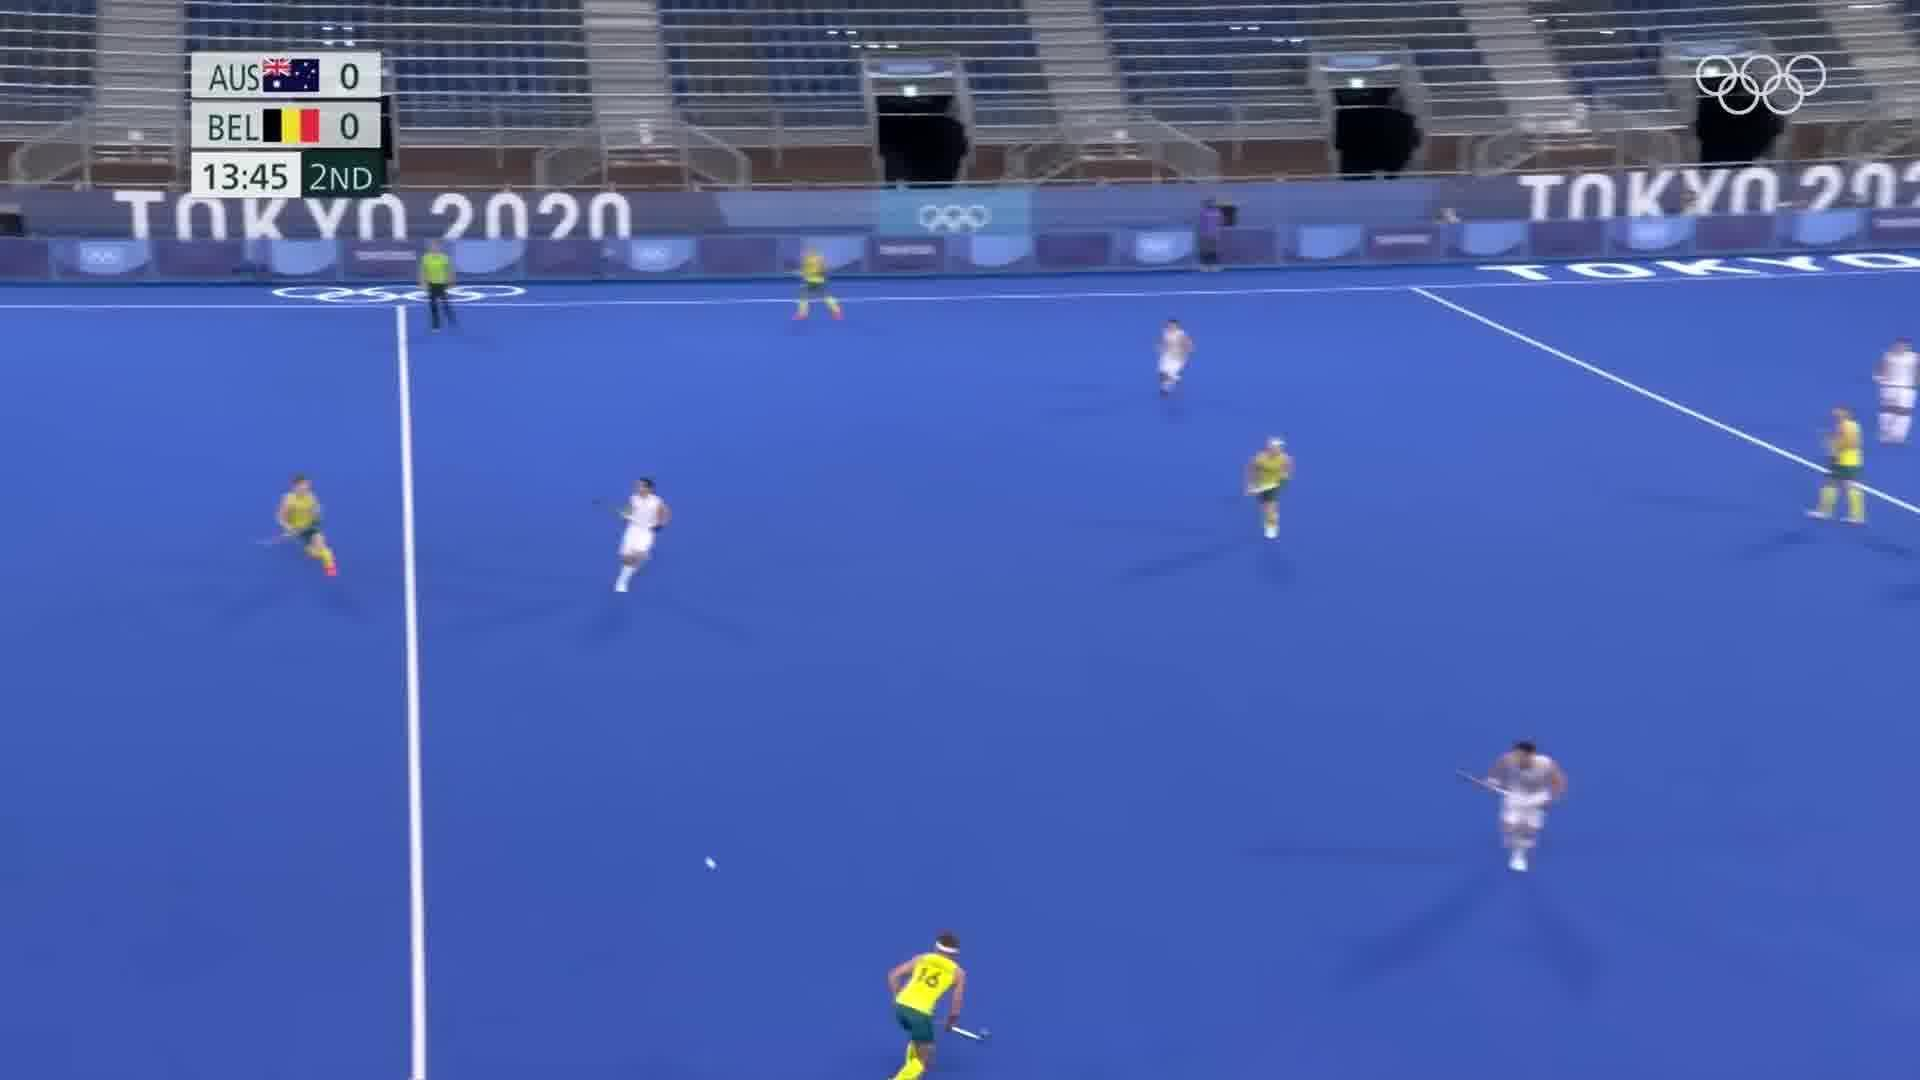ball: (695, 851, 723, 874)
